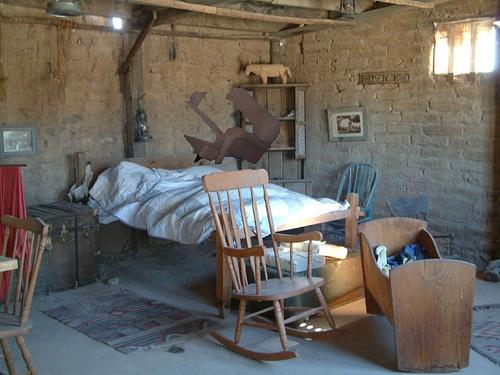tampered: (185, 88, 280, 164)
